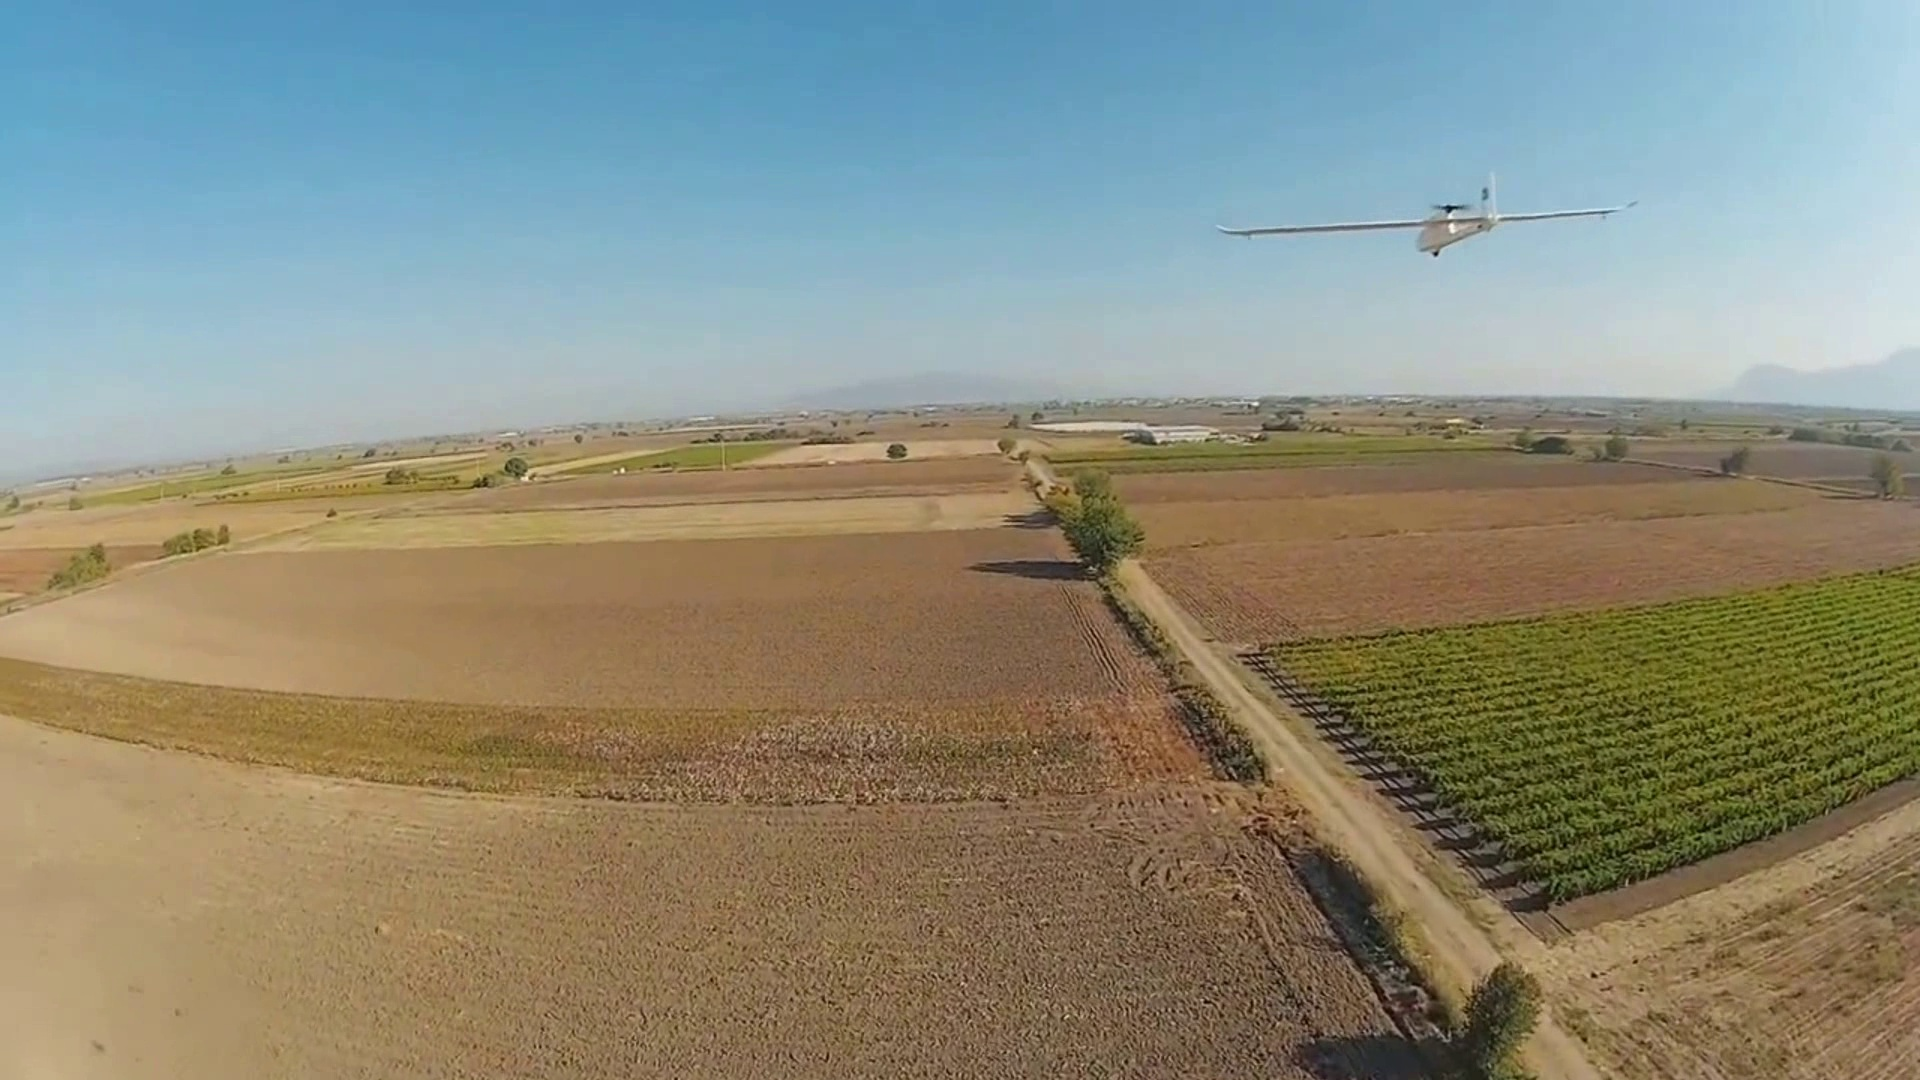airplane: (1213, 173, 1636, 256)
